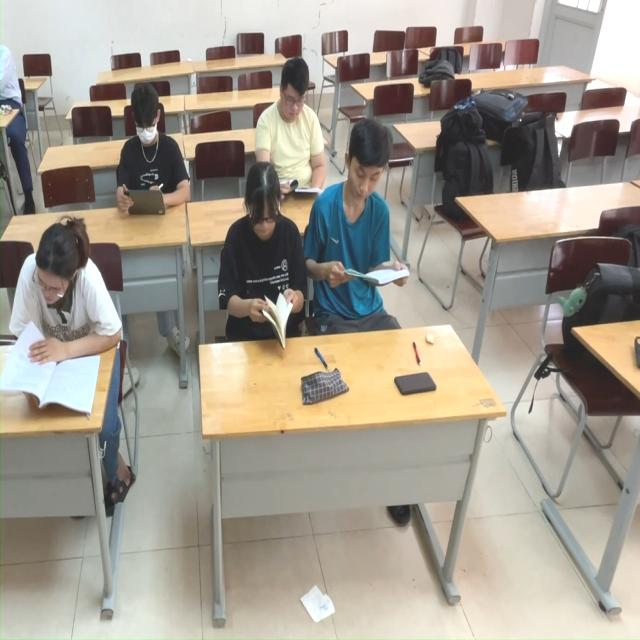read: (1, 214, 133, 423), (310, 115, 413, 339), (215, 159, 312, 359), (106, 84, 196, 233), (253, 56, 331, 200)
